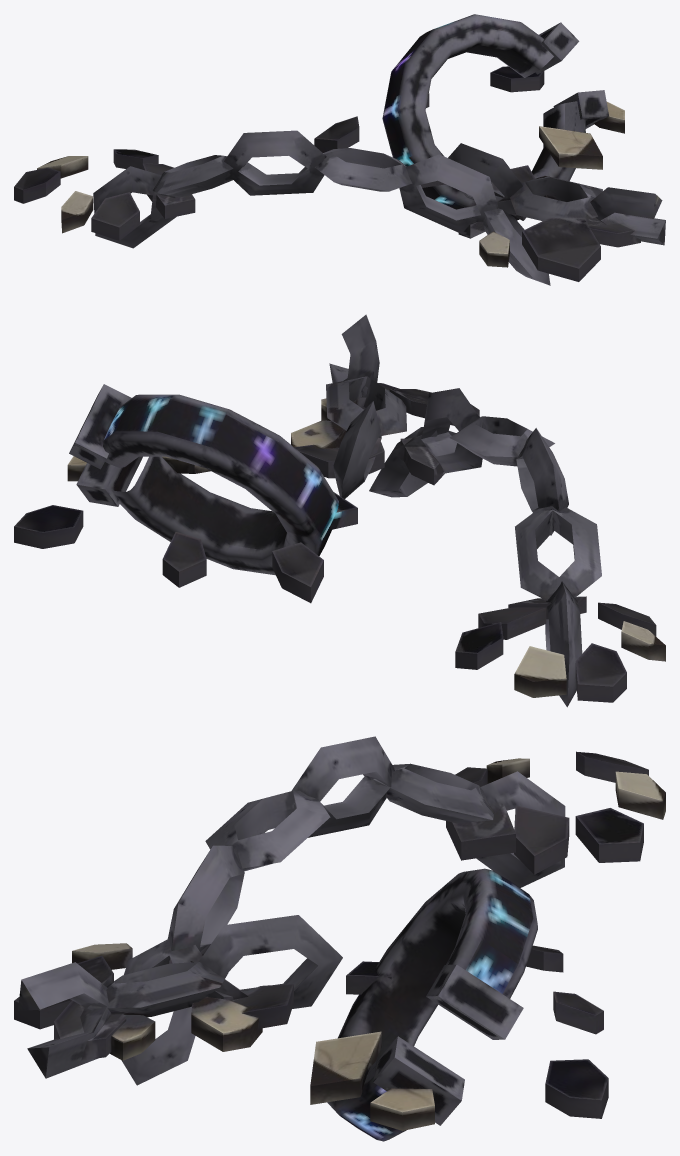
File: abyss_chains.glb
3 views of the same model, one above another, from view 1: azimuth 30°, elevation 25°; view 2: azimuth 150°, elevation 25°; view 3: azimuth 270°, elevation 25° (orthographic). The views are drawn at different scales.
Parts seen in each view (by area): view 1: abyss_chains; view 2: abyss_chains; view 3: abyss_chains.
Part boxes in pixels (left/top/right/bottom): abyss_chains: left=14, top=14, right=665, bottom=285; abyss_chains: left=14, top=314, right=665, bottom=707; abyss_chains: left=14, top=736, right=665, bottom=1141.
Bounding box in the file's own units: 2.07 × 0.6459 × 1.58.
Materials: 1 (1 with a texture image).
